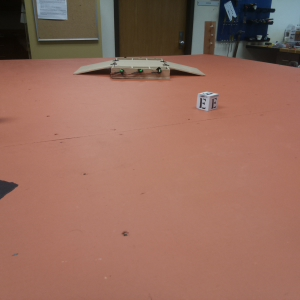blockE: (197, 91, 218, 113)
corner: (203, 20, 218, 57)
side: (110, 65, 170, 82)
slope: (73, 58, 112, 78), (168, 60, 205, 77)
start: (1, 179, 20, 202)
